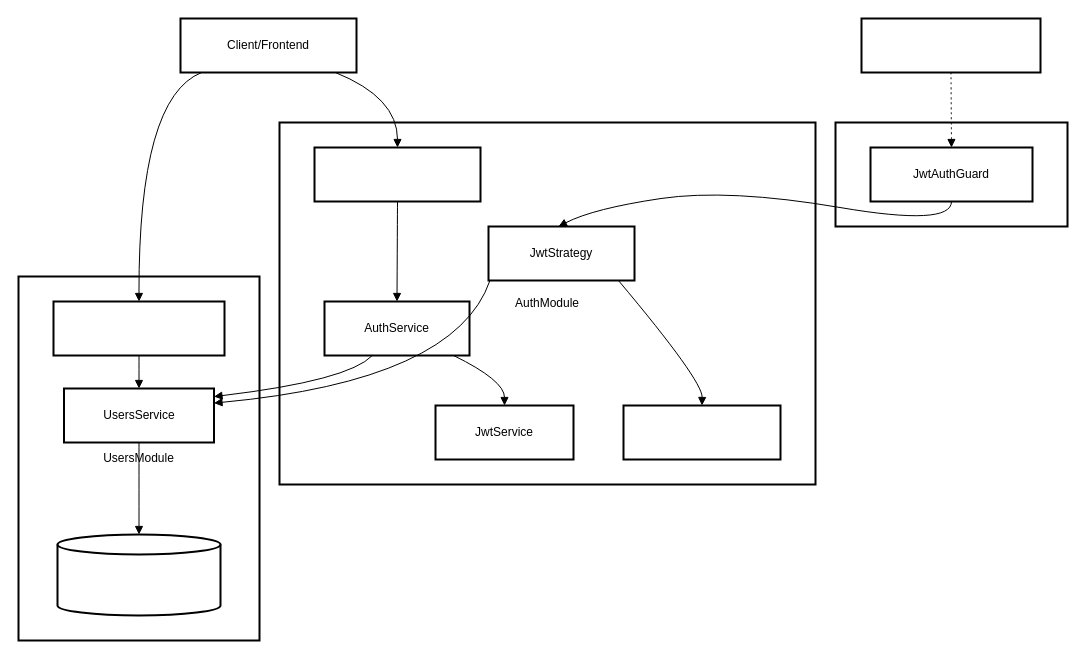
The diagram is 1085 pixels wide and 658 high, and some of its shapes have lost their labels. The shapes that lost their labels are listed below. From the top down, each one's centre as x and y in pixels, then its label:
point 950,45: Public Decorator
point 397,174: AuthController
point 138,328: UsersController
point 701,432: ConfigService
point 138,574: User MongoDB Model
